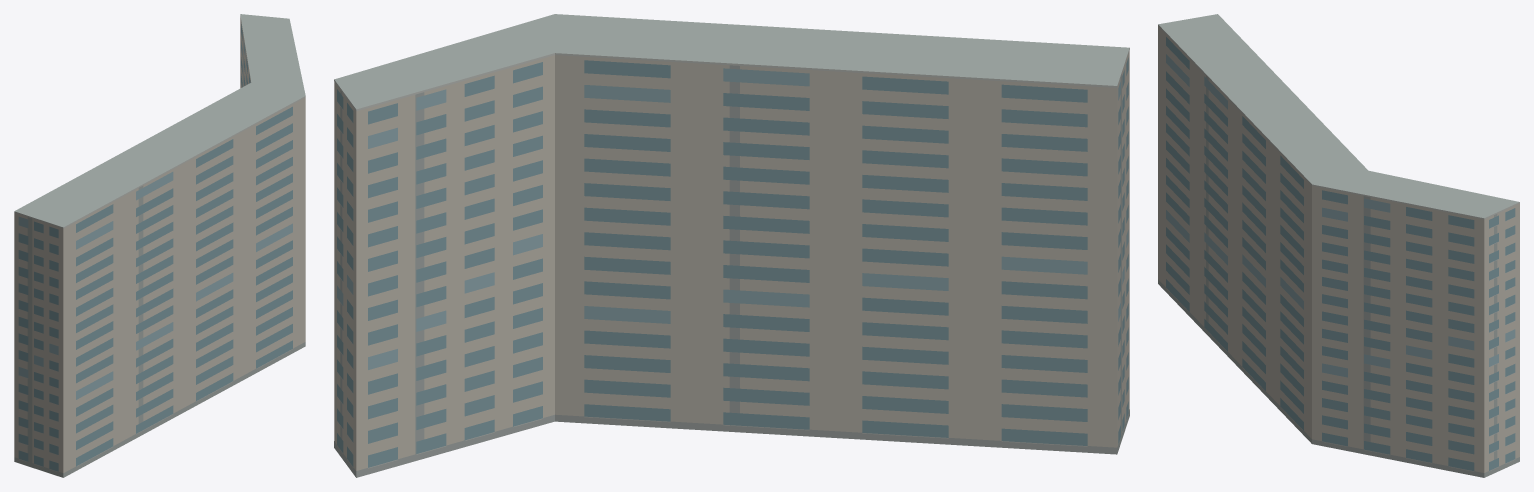
File: residential-fcb35473-3313-4c4a-ae19-9be7776cc3b1.glb
3 views of the same model, side by side, from view 1: azimuth 30°, elevation 25°; view 2: azimuth 150°, elevation 25°; view 3: azimuth 270°, elevation 25° (orthographic). The views are drawn at different scales.
Visible parts, largest first — view 1: residential-fcb35473-3313-4c4a-ae19-9be7776cc3b1.tmp; view 2: residential-fcb35473-3313-4c4a-ae19-9be7776cc3b1.tmp; view 3: residential-fcb35473-3313-4c4a-ae19-9be7776cc3b1.tmp.
Boxes of the visible parts, x1=… form: residential-fcb35473-3313-4c4a-ae19-9be7776cc3b1.tmp: x1=14, y1=14, x2=305, y2=477; residential-fcb35473-3313-4c4a-ae19-9be7776cc3b1.tmp: x1=334, y1=14, x2=1129, y2=477; residential-fcb35473-3313-4c4a-ae19-9be7776cc3b1.tmp: x1=1158, y1=14, x2=1519, y2=477.
Bounding box in the file's own units: 77.2 × 45.75 × 57.77.
